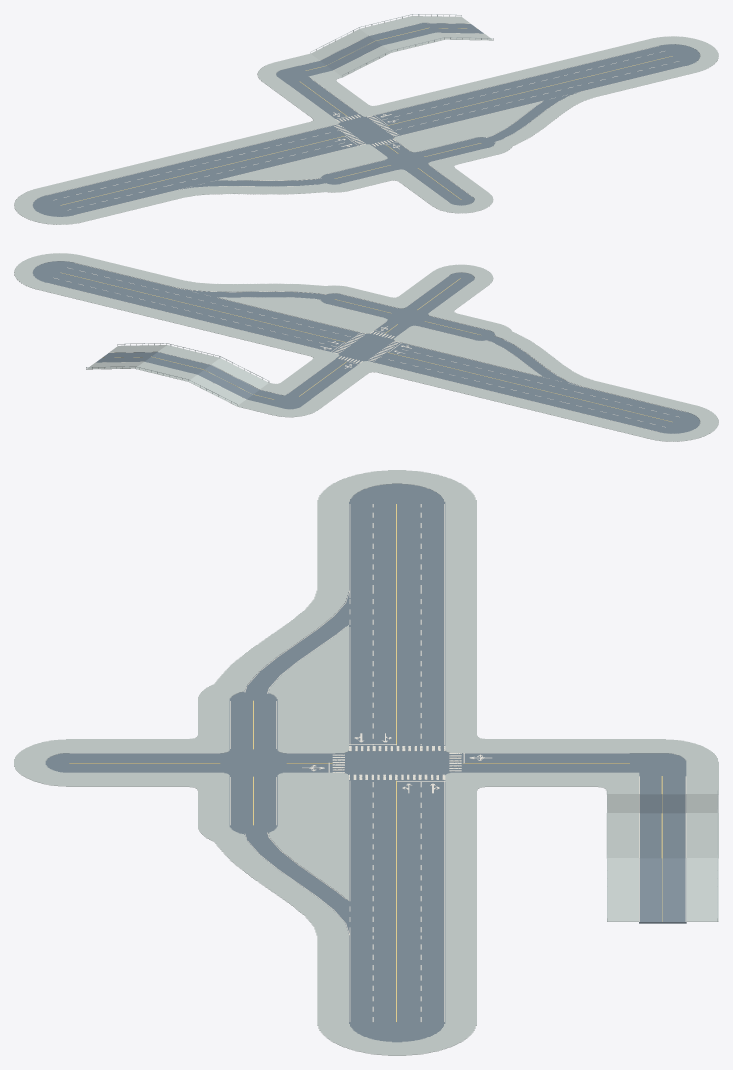
The model's file is network-w59-s78.glb.
3 renders of one model, top to bottom at view 1: azimuth 30°, elevation 25°; view 2: azimuth 150°, elevation 25°; view 3: azimuth 270°, elevation 25°, orthographic. The views are drawn at different scales.
Visible parts, largest first — view 1: Sidewalks, Road_surface, Lane_markings, Ramp_surface, Crosswalks, Bridge_railings; view 2: Sidewalks, Road_surface, Lane_markings, Ramp_surface, Crosswalks, Bridge_railings; view 3: Road_surface, Sidewalks, Lane_markings, Ramp_surface, Crosswalks.
Part boxes in pixels (x1,y1,x2,y2): Sidewalks: [14, 16, 718, 224]; Road_surface: [33, 23, 699, 216]; Lane_markings: [47, 23, 685, 215]; Ramp_surface: [320, 23, 483, 70]; Crosswalks: [333, 114, 399, 146]; Bridge_railings: [310, 14, 493, 76]; Sidewalks: [14, 253, 718, 441]; Road_surface: [33, 261, 699, 433]; Lane_markings: [48, 263, 685, 432]; Ramp_surface: [96, 352, 259, 399]; Crosswalks: [333, 331, 400, 363]; Bridge_railings: [86, 343, 269, 405]; Road_surface: [45, 483, 686, 1042]; Sidewalks: [14, 470, 718, 1055]; Lane_markings: [69, 504, 686, 1022]; Ramp_surface: [639, 794, 686, 923]; Crosswalks: [332, 746, 461, 779].
Bounding box in the file's own units: 339 × 7.51 × 172.
